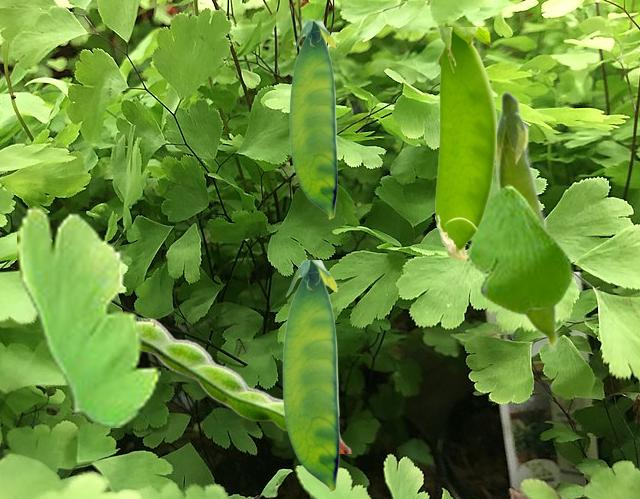pea: (138, 317, 351, 452), (494, 89, 559, 351), (435, 27, 495, 259), (282, 260, 338, 492), (289, 21, 336, 218)
